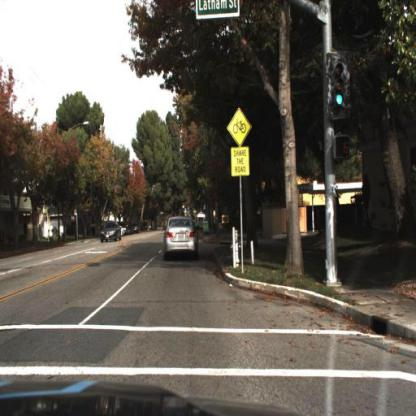car: (163, 216, 201, 262), (100, 218, 124, 247)
